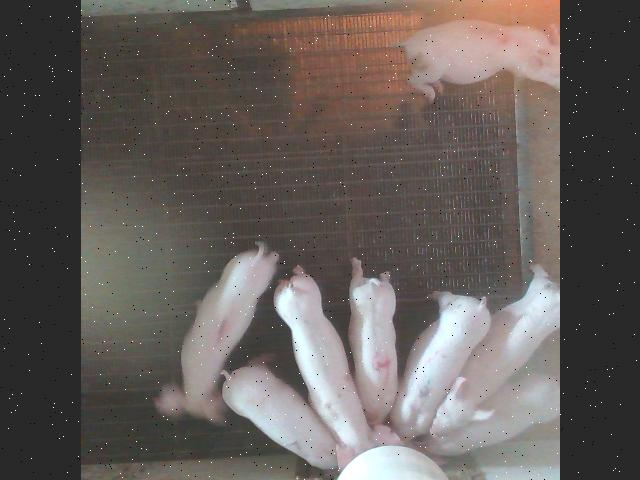pig-1: (154, 243, 277, 425)
pig-3: (395, 20, 558, 101)
pig-4: (348, 259, 397, 424)
